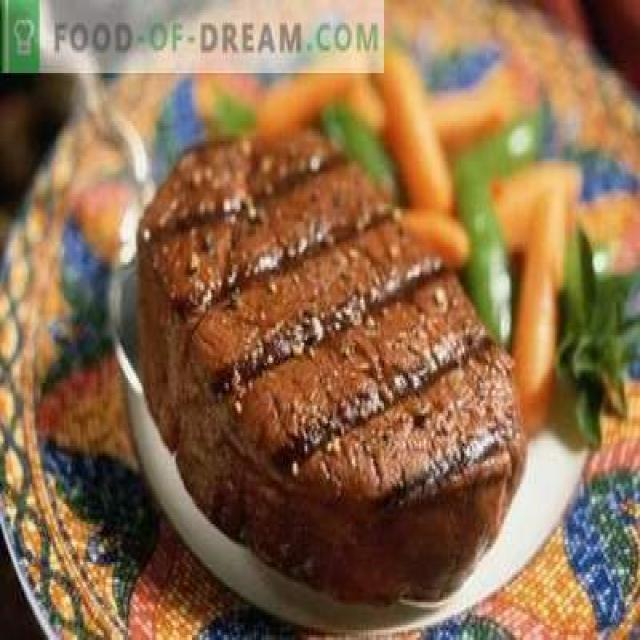Carne: (134, 123, 528, 608)
